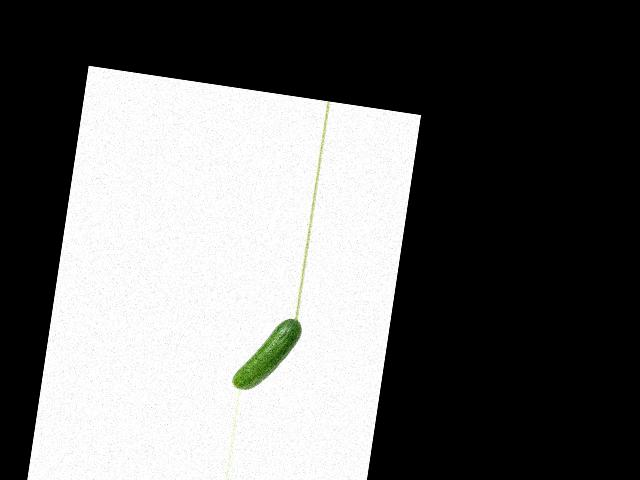cucumber: (231, 310, 304, 397)
